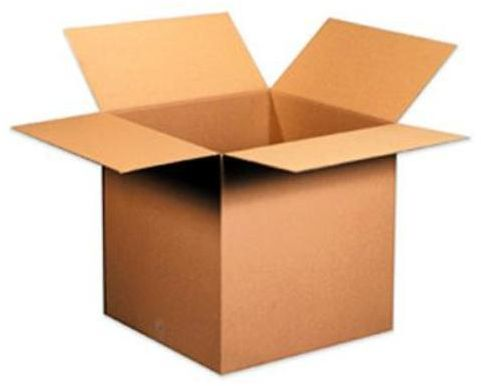Rec_Paper: (3, 11, 475, 375)
